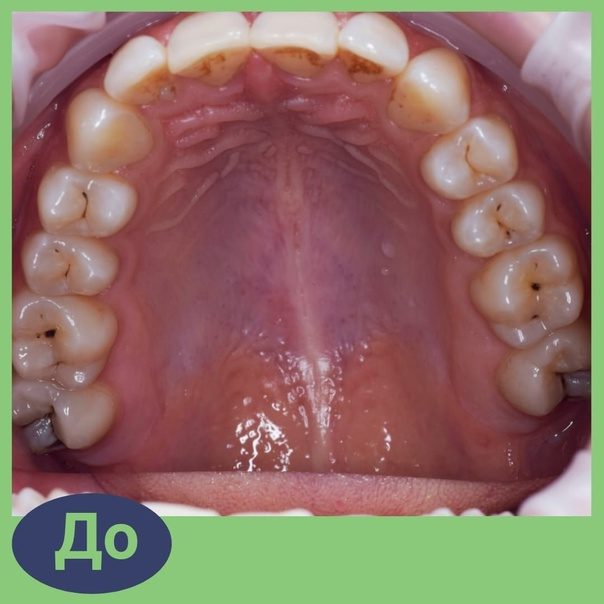UL1BC_decay: (422, 128, 520, 191)
UL1M_decay: (486, 252, 583, 335)
UL2BC_decay: (457, 191, 548, 250)
UL2M_decay: (515, 345, 590, 398)
ULCI_decay: (253, 14, 334, 74)
ULC_healthy: (401, 53, 470, 129)
ULLI_decay: (337, 13, 409, 82)
UR1BC_decay: (38, 170, 138, 238)
UR1M_decay: (12, 299, 118, 385)
UR2BC_decay: (24, 237, 118, 300)
UR2M_decay: (14, 385, 118, 449)
URCI_decay: (168, 13, 252, 83)
URC_healthy: (61, 90, 154, 168)
URLI_decay: (112, 40, 164, 101)
